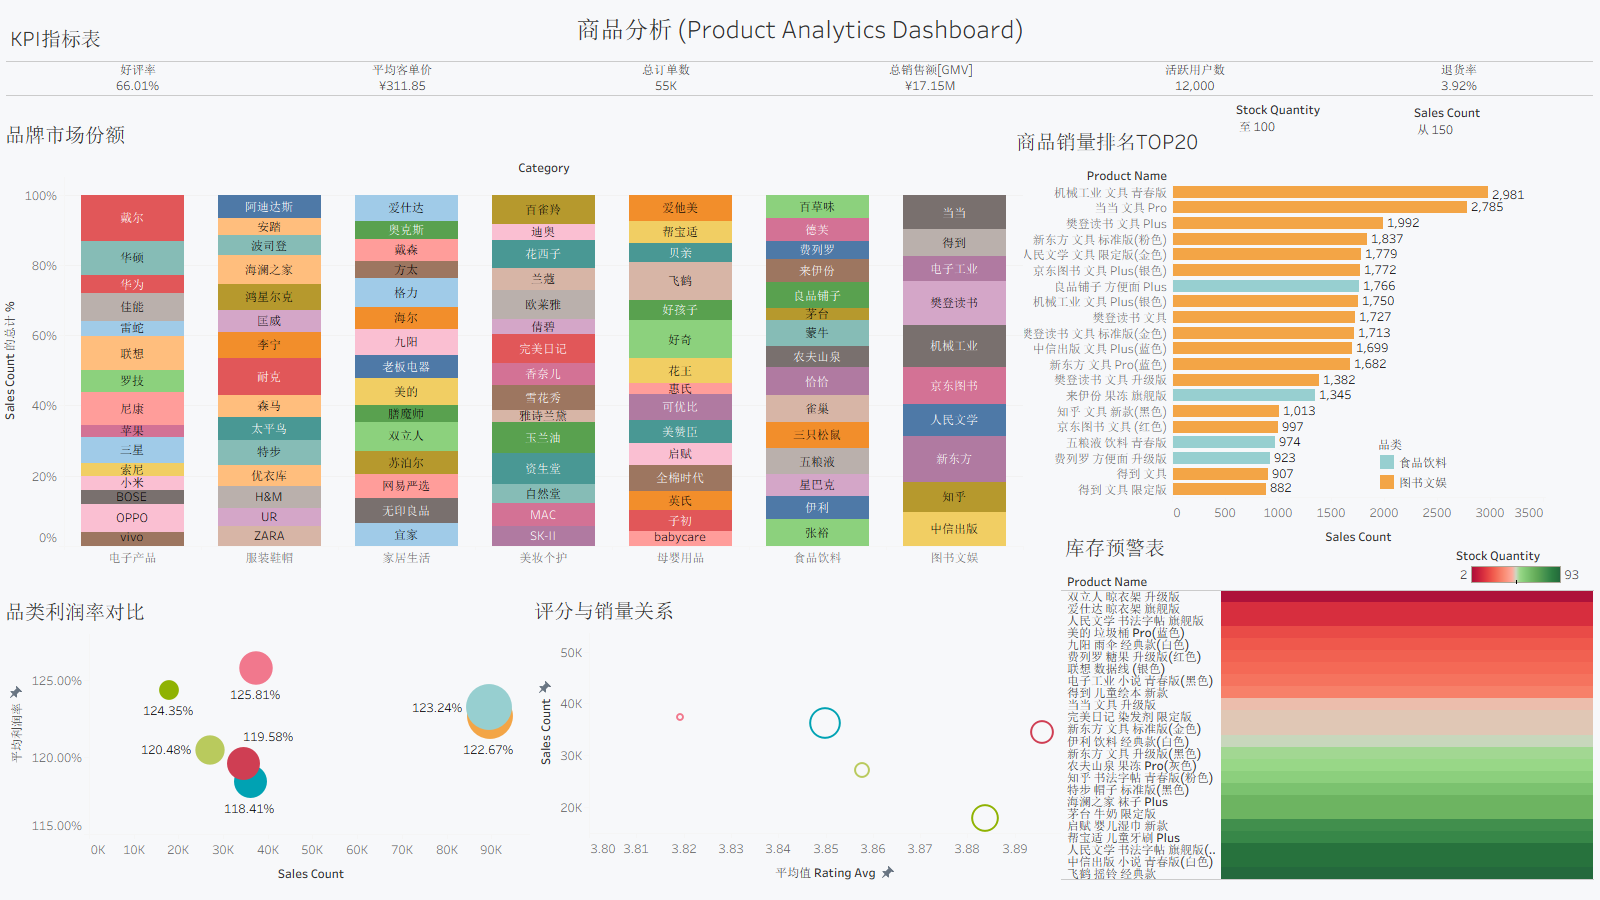

Layout of this report page (visuals, bound fields, positions):
{"tool":"tableau","page":{"name":"商品分析 (Product Analytics Dashboard)","canvas":[1600,900],"ordinal":0},"visuals":[{"type":"title","box":[8,8,1584,42]},{"type":"worksheet","title":"KPI指标表","mark":"Automatic","box":[6,18,1587,105]},{"type":"filter","title":"库存预警表","param":"[federated.0lb1a9i1hp98jd18h5jou19731hb].[sum:stock_quantity:qk]","box":[1236,100,168,69]},{"type":"filter","title":"库存预警表","param":"[federated.0lb1a9i1hp98jd18h5jou19731hb].[sum:sales_count:qk]","box":[1414,103,168,69]},{"type":"worksheet","title":"品牌市场份额","mark":"Automatic","cols":["category"],"box":[1,114,1022,453]},{"type":"worksheet","title":"商品销量排名","mark":"Bar","rows":["product_name"],"cols":["sales_count"],"box":[1012,121,533,431]},{"type":"legend","title":"商品销量排名","param":"[federated.0lb1a9i1hp98jd18h5jou19731hb].[none:category:nk]","box":[1377,434,140,58]},{"type":"worksheet","title":"库存预警表","mark":"Automatic","rows":["product_name"],"box":[1061,527,533,353]},{"type":"legend","title":"库存预警表","param":"[federated.0lb1a9i1hp98jd18h5jou19731hb].[sum:stock_quantity:qk]","box":[1456,543,128,41]},{"type":"worksheet","title":"评分与销量关系","mark":"Automatic","rows":["sales_count"],"cols":["rating_avg"],"box":[530,590,533,298]},{"type":"worksheet","title":"品类利润率对比","mark":"Automatic","rows":["Calculation_0282329147056128"],"cols":["sales_count"],"box":[1,591,533,298]}]}

Visuals, with their boxes in screenshot pixels (x1, y1, x2, y2), scaled from the page's 1600x900 canvas onto the 1600x900 screenshot:
title: detection(8, 8, 1592, 50)
"KPI指标表" worksheet: detection(6, 18, 1593, 123)
"库存预警表" filter: detection(1236, 100, 1404, 169)
"库存预警表" filter: detection(1414, 103, 1582, 172)
"品牌市场份额" worksheet: detection(1, 114, 1023, 567)
"商品销量排名" worksheet (Bar marks): detection(1012, 121, 1545, 552)
"商品销量排名" legend: detection(1377, 434, 1517, 492)
"库存预警表" worksheet: detection(1061, 527, 1594, 880)
"库存预警表" legend: detection(1456, 543, 1584, 584)
"评分与销量关系" worksheet: detection(530, 590, 1063, 888)
"品类利润率对比" worksheet: detection(1, 591, 534, 889)
